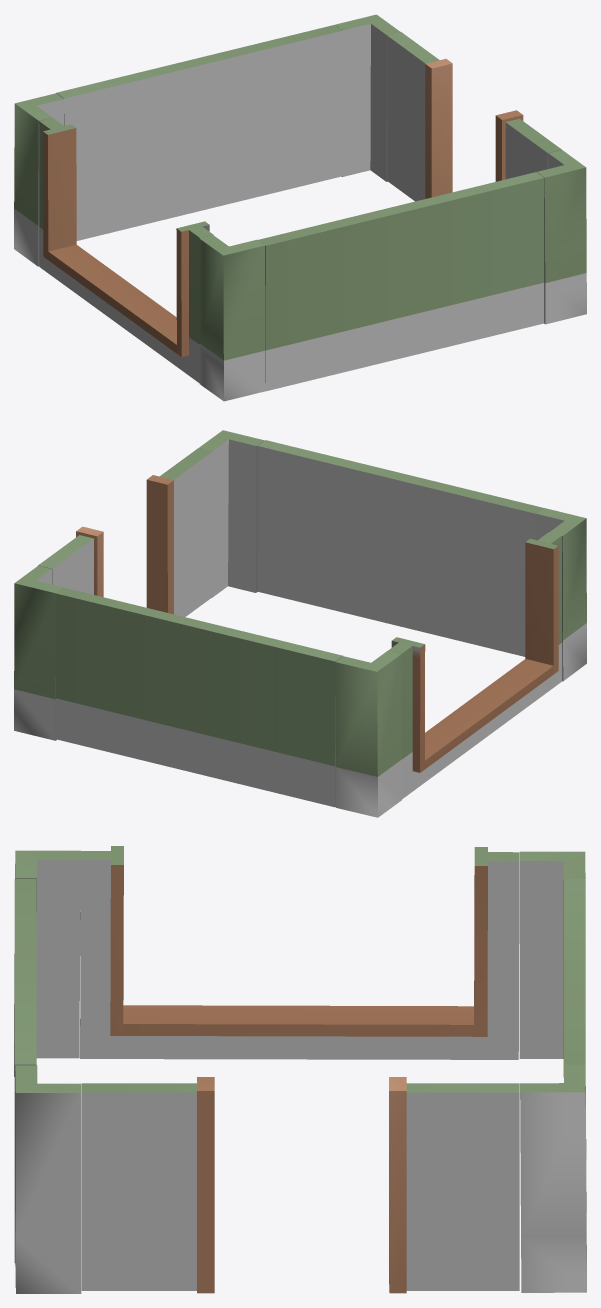
Rendered from CACINA.fbx.
3 views of the same model, one above another, from view 1: azimuth 30°, elevation 25°; view 2: azimuth 150°, elevation 25°; view 3: azimuth 270°, elevation 25° (orthographic). The views are drawn at different scales.
Parts seen in each view (by area): view 1: paret_basica12, paret_basica13, paret_con_ventana_grande12, paret_puerta21, paret_esquina17, paret_esquina_46, paret_esquina_50, paret_esquina21; view 2: paret_basica13, paret_basica12, paret_con_ventana_grande12, paret_puerta21, paret_esquina21, paret_esquina_50, paret_esquina_46, paret_esquina17; view 3: paret_puerta21, paret_con_ventana_grande12, paret_esquina_50, paret_esquina_46, paret_esquina17, paret_esquina21, paret_basica12, paret_basica13.
Part boxes in pixels (x1,y1,x2,y2): paret_basica12: [258, 172, 544, 391]; paret_basica13: [56, 25, 342, 240]; paret_con_ventana_grande12: [39, 118, 213, 382]; paret_puerta21: [387, 32, 561, 201]; paret_esquina17: [199, 235, 265, 401]; paret_esquina_46: [335, 14, 400, 181]; paret_esquina_50: [537, 150, 586, 324]; paret_esquina21: [14, 93, 64, 266]; paret_basica13: [56, 587, 342, 807]; paret_basica12: [257, 440, 544, 656]; paret_con_ventana_grande12: [388, 532, 562, 799]; paret_puerta21: [38, 448, 212, 616]; paret_esquina21: [335, 651, 401, 817]; paret_esquina_50: [199, 430, 264, 597]; paret_esquina_46: [14, 565, 63, 740]; paret_esquina17: [537, 508, 586, 681]; paret_puerta21: [81, 1077, 519, 1293]; paret_con_ventana_grande12: [80, 846, 519, 1059]; paret_esquina_50: [15, 1065, 81, 1293]; paret_esquina_46: [520, 1064, 586, 1292]; paret_esquina17: [14, 850, 80, 1076]; paret_esquina21: [519, 851, 585, 1077]; paret_basica12: [14, 879, 36, 1262]; paret_basica13: [564, 879, 585, 1064].
Size of the model in its own units: 888 by 341 by 865.
